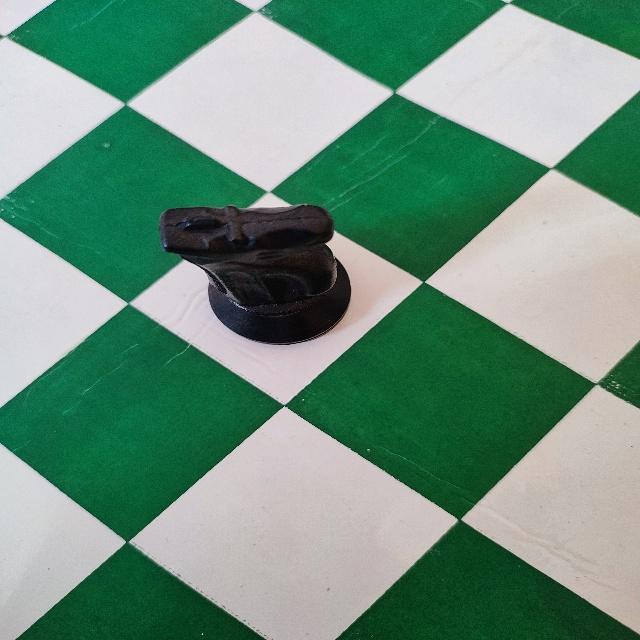Knight: (158, 202, 363, 349)
